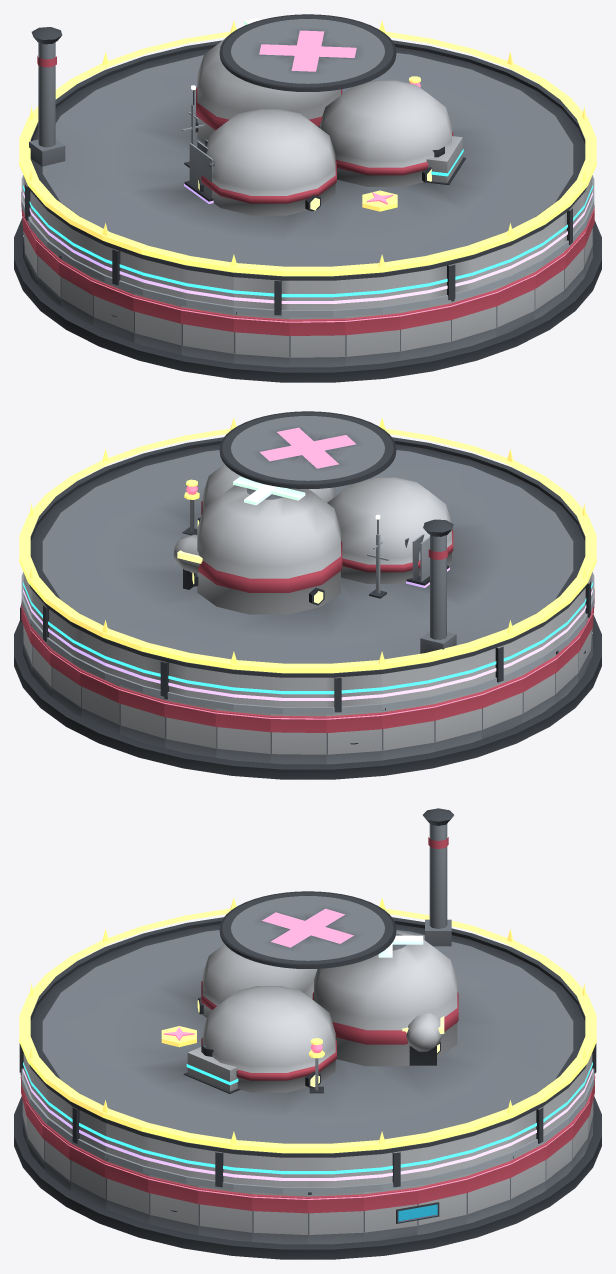
The model's file is bio_lab.glb.
The picture shows the model from 3 angles, top to bottom: view 1: azimuth 30°, elevation 25°; view 2: azimuth 150°, elevation 25°; view 3: azimuth 270°, elevation 25°; orthographic projection.
Parts seen in each view (by area): view 1: Roof, Base, Wall_21, Wall_20, Wall_22, Wall_19, Wall_23, Wall_18, Wall_24, Wall_17, Wall_25, Upper_20 (+32 smaller); view 2: Roof, Base, Wall_10, Wall_11, Wall_09, Wall_12, Wall_08, Wall_13, Wall_07, Wall_14, Wall_06, L4 (+30 smaller); view 3: Roof, Base, Wall_00, Wall_31, Wall_30, Wall_29, Wall_01, Wall_02, Wall_28, Wall_03, Wall_04, Wall_27 (+22 smaller).
Part boxes in pixels (x1,y1,x2,y2): Roof: [29, 14, 585, 276]; Base: [14, 218, 601, 382]; Wall_21: [289, 316, 345, 367]; Wall_20: [233, 312, 289, 367]; Wall_22: [345, 311, 400, 366]; Wall_19: [181, 305, 233, 363]; Wall_23: [399, 301, 451, 360]; Wall_18: [133, 293, 181, 354]; Wall_24: [450, 288, 497, 350]; Wall_17: [92, 277, 134, 342]; Wall_25: [496, 271, 535, 337]; Upper_20: [233, 273, 289, 315]; Roof: [30, 411, 585, 673]; Base: [14, 615, 601, 779]; Wall_10: [270, 713, 326, 764]; Wall_11: [326, 711, 382, 764]; Wall_09: [215, 708, 270, 763]; Wall_12: [382, 702, 434, 760]; Wall_08: [164, 697, 216, 757]; Wall_13: [434, 690, 482, 751]; Wall_07: [118, 685, 165, 747]; Wall_14: [481, 674, 523, 739]; Wall_06: [80, 668, 119, 734]; L4: [173, 534, 449, 589]; Roof: [30, 808, 585, 1153]; Base: [14, 1096, 601, 1259]; Wall_00: [308, 1192, 363, 1244]; Wall_31: [252, 1192, 307, 1244]; Wall_30: [198, 1185, 252, 1241]; Wall_29: [148, 1174, 198, 1234]; Wall_01: [363, 1185, 417, 1241]; Wall_02: [417, 1174, 467, 1234]; Wall_28: [105, 1158, 149, 1223]; Wall_03: [466, 1160, 510, 1223]; Wall_04: [509, 1142, 546, 1209]; Wall_27: [69, 1142, 106, 1209].
Size of the model in its own units: 13.25 by 5.75 by 13.25.
